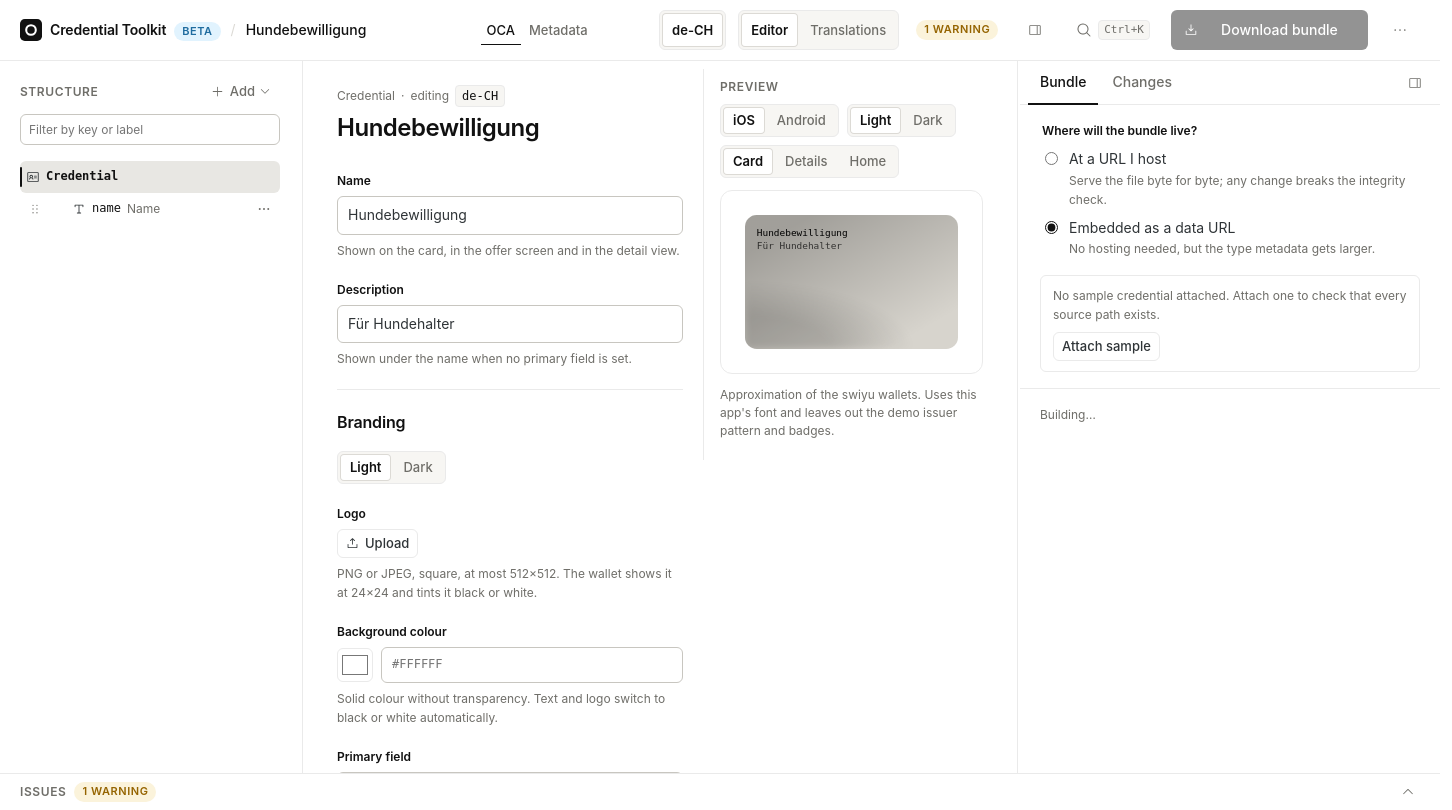
Hosting and the sample credential › leaves them out of the Changes tab
Click the tab "Changes": (1142, 83) 1100,61 -> 1184,105
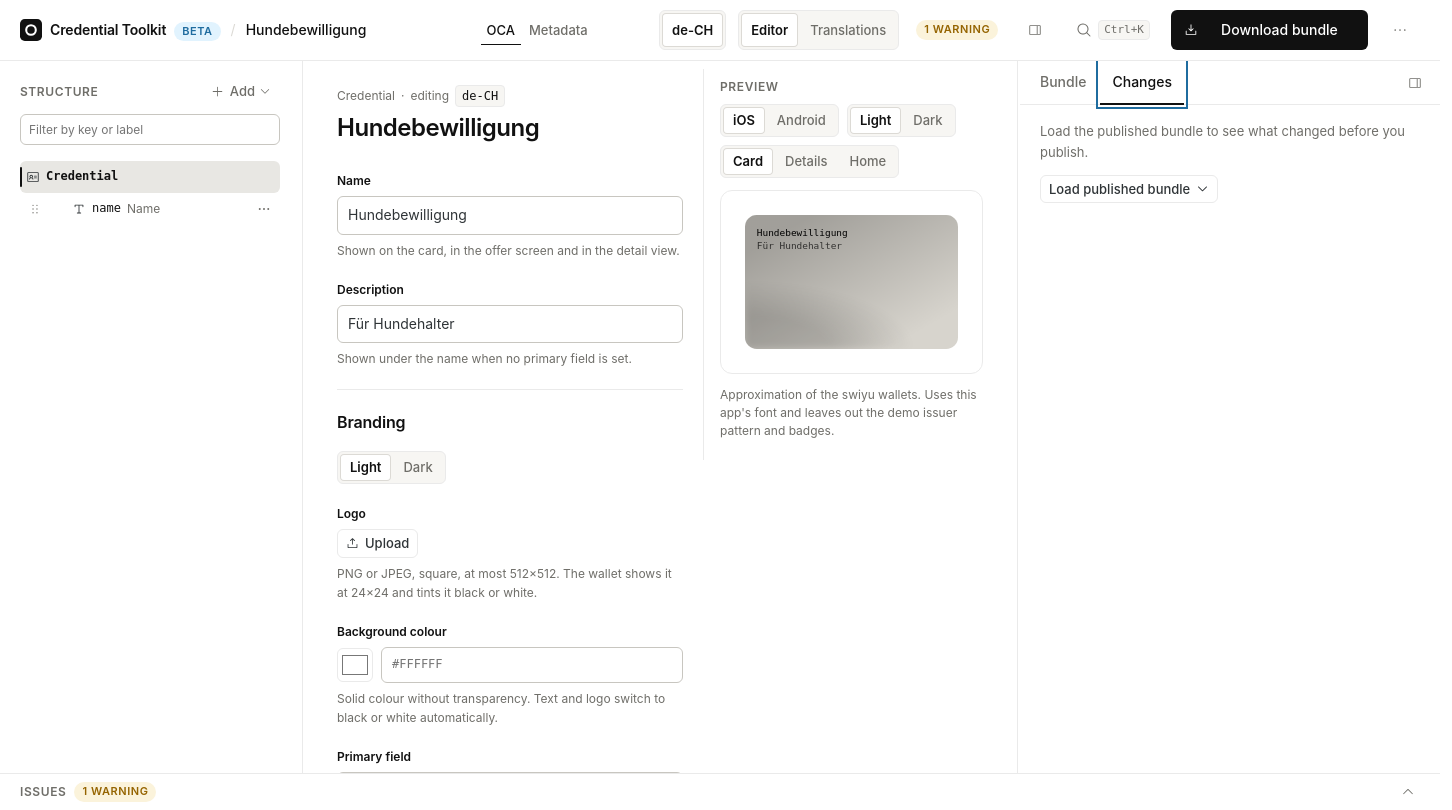
Result: the text "Where will the bundle live?" is gone
Result: the button "Attach sample" is gone
Click the tab "Bundle": (1063, 83) 1028,61 -> 1098,105
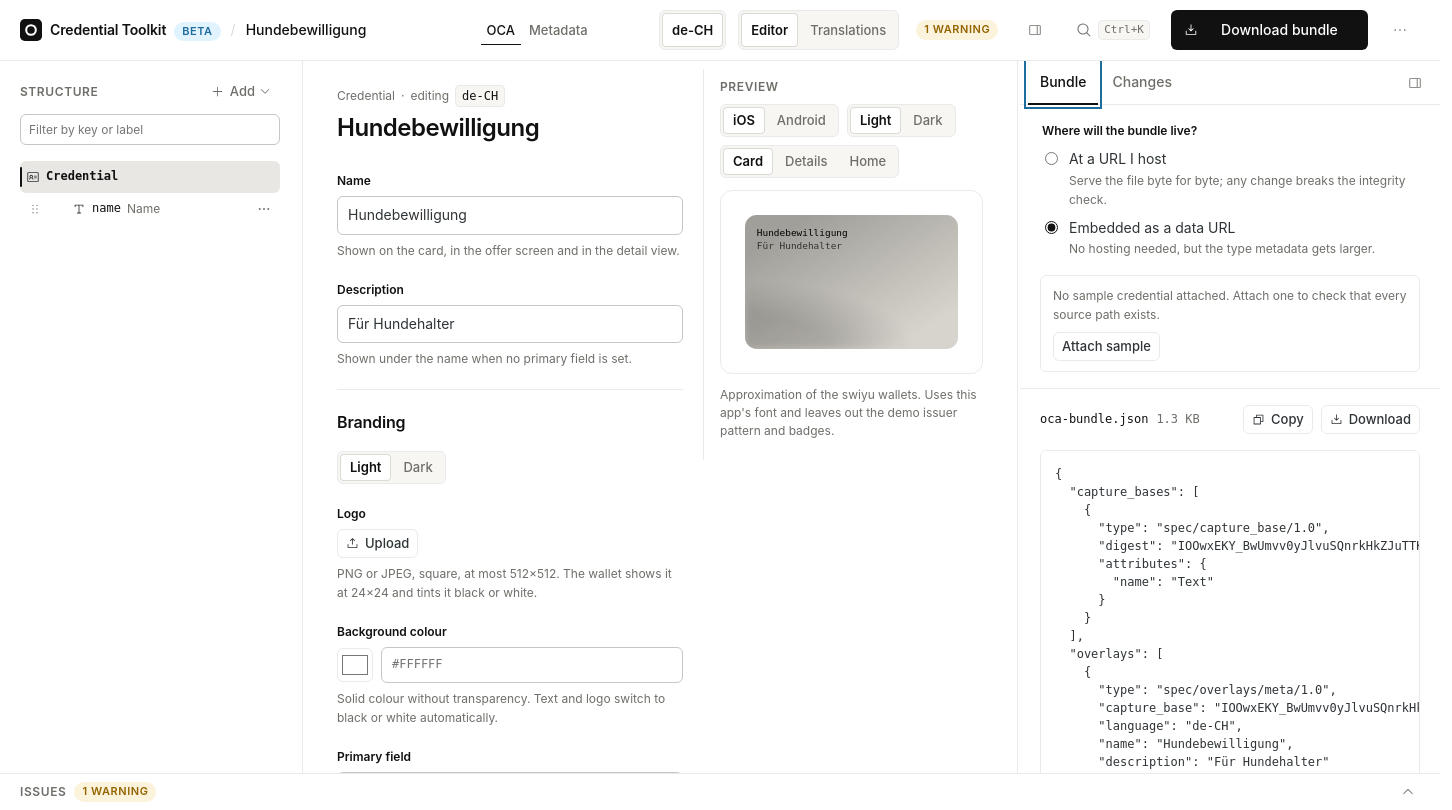
Result: the element "Where will the bundle live?" is shown at 1040,121 -> 1420,258
